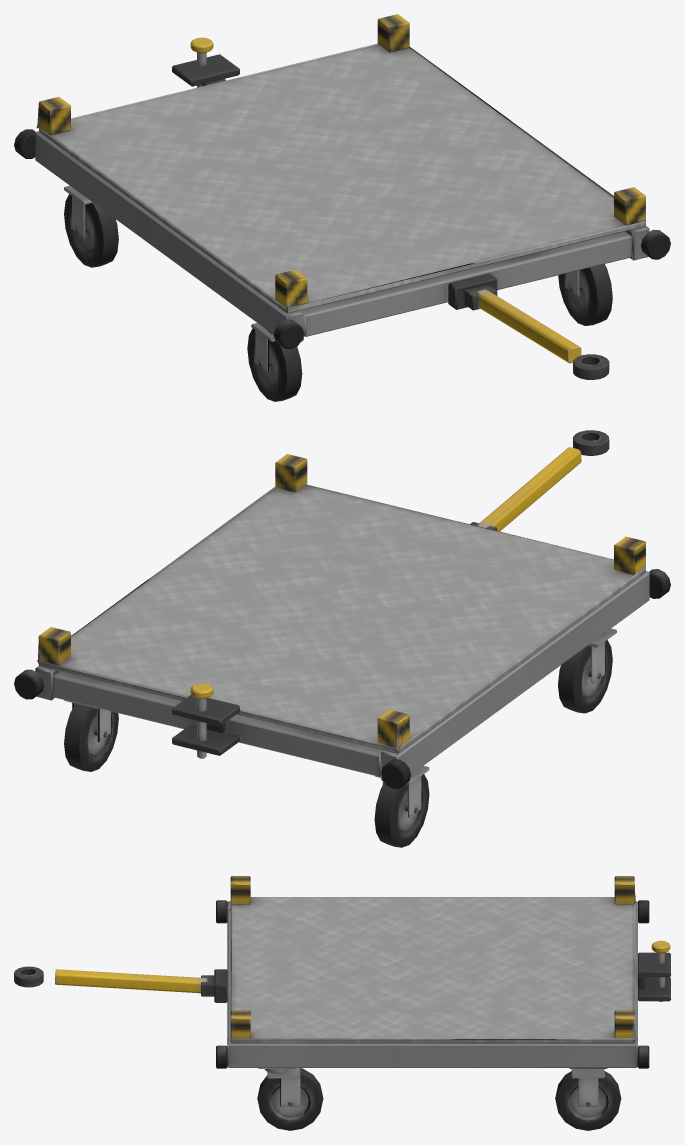
Rendered from PlatformTrolley.fbx.
3 views of the same model, one above another, from view 1: azimuth 30°, elevation 25°; view 2: azimuth 150°, elevation 25°; view 3: azimuth 270°, elevation 25° (orthographic). The views are drawn at different scales.
Parts seen in each view (by area): view 1: PlatformTrolley_LOD0, Drawbar_LOD0, Wheel_RR_LOD0, Wheel_FR_LOD0, Wheel_FL_LOD0, Castor_FR_LOD0; view 2: PlatformTrolley_LOD0, Drawbar_LOD0, Wheel_RL_LOD0, Wheel_RR_LOD0, Wheel_FR_LOD0, Castor_FR_LOD0; view 3: PlatformTrolley_LOD0, Drawbar_LOD0, Wheel_FL_LOD0, Wheel_RL_LOD0, Castor_FL_LOD0.
Part boxes in pixels (bbox=[...]): PlatformTrolley_LOD0: bbox=[14, 14, 670, 349]; Drawbar_LOD0: bbox=[464, 284, 609, 379]; Wheel_RR_LOD0: bbox=[64, 194, 118, 267]; Wheel_FR_LOD0: bbox=[247, 328, 302, 401]; Wheel_FL_LOD0: bbox=[558, 264, 612, 325]; Castor_FR_LOD0: bbox=[251, 323, 275, 371]; PlatformTrolley_LOD0: bbox=[14, 454, 670, 817]; Drawbar_LOD0: bbox=[470, 430, 609, 531]; Wheel_RL_LOD0: bbox=[64, 703, 118, 771]; Wheel_RR_LOD0: bbox=[374, 774, 429, 847]; Wheel_FR_LOD0: bbox=[558, 640, 612, 713]; Castor_FR_LOD0: bbox=[588, 628, 616, 683]; PlatformTrolley_LOD0: bbox=[214, 876, 670, 1106]; Drawbar_LOD0: bbox=[14, 966, 214, 996]; Wheel_FL_LOD0: bbox=[257, 1068, 323, 1130]; Wheel_RL_LOD0: bbox=[555, 1071, 621, 1130]; Castor_FL_LOD0: bbox=[264, 1068, 300, 1106].
Size of what is drawn, in the model's own units: 1.11 by 0.41 by 1.99.
1 material, 1 textured.
